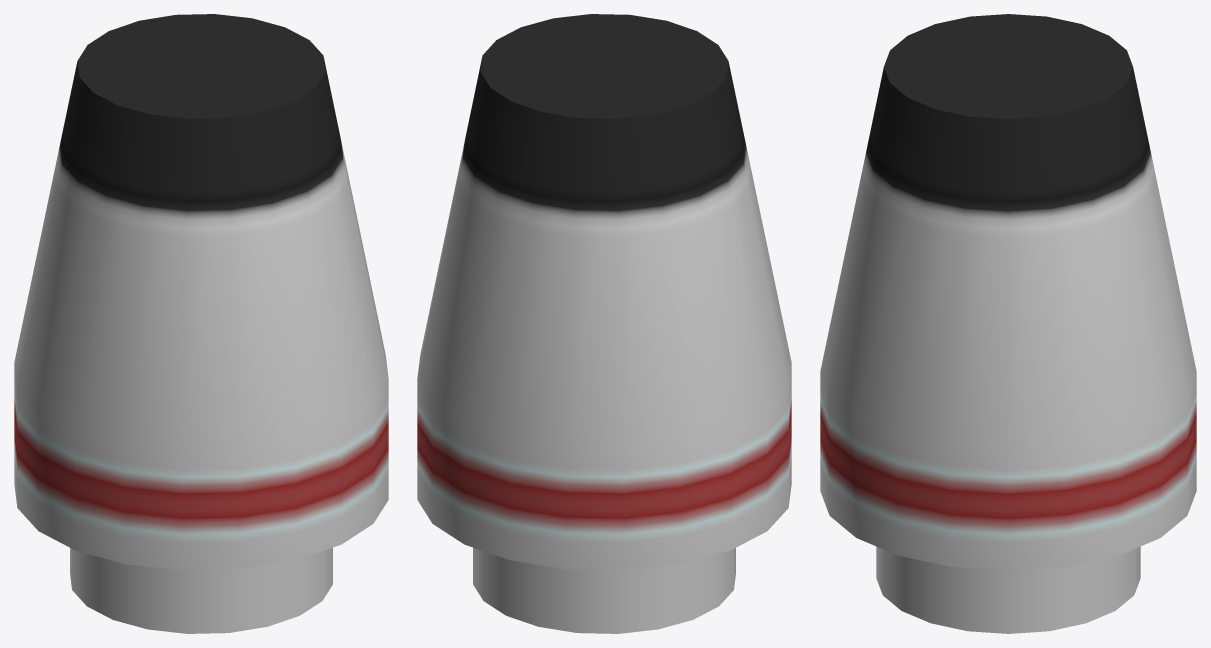
The model's file is hv_phase_1_disc_3.glb.
3 renders of one model, left to right at view 1: azimuth 30°, elevation 25°; view 2: azimuth 150°, elevation 25°; view 3: azimuth 270°, elevation 25°, orthographic.
Visible parts, largest first — view 1: hv_phase_1_disc_3; view 2: hv_phase_1_disc_3; view 3: hv_phase_1_disc_3.
Boxes of the visible parts, x1=… form: hv_phase_1_disc_3: x1=14, y1=14, x2=388, y2=633; hv_phase_1_disc_3: x1=417, y1=14, x2=791, y2=633; hv_phase_1_disc_3: x1=820, y1=14, x2=1196, y2=633.
Size of the model in its own units: 0.12 by 0.18 by 0.12.
1 material, 1 textured.
